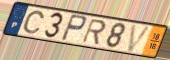3: (42, 11, 65, 40)
8: (105, 22, 126, 49)
C: (21, 10, 46, 35)
P: (60, 13, 89, 43)
R: (80, 18, 107, 46)
V: (126, 24, 153, 54)
